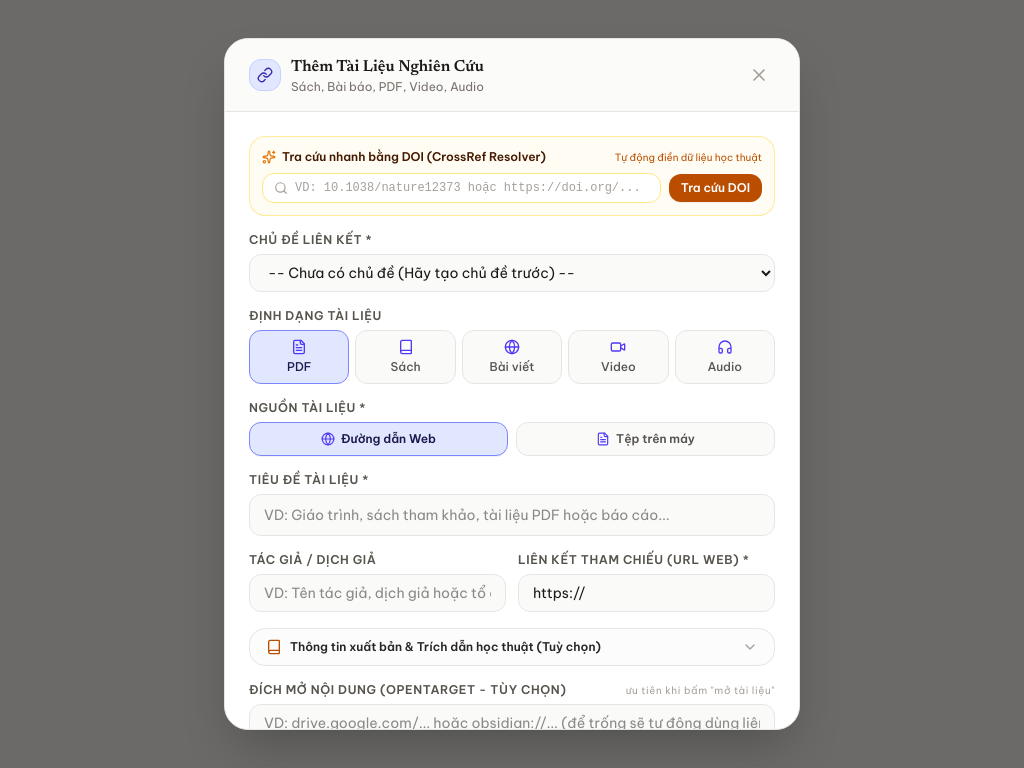
Test: Post-Phase 6c: ResourceFormModal - Path Normalization, Validation & Boundary Warning UI › displays warning callout when filePath is outside configured canonical library root
// Switch to local mode
Click the button "Tệp trên máy".
click(646, 439)  # box [516,422,775,456]
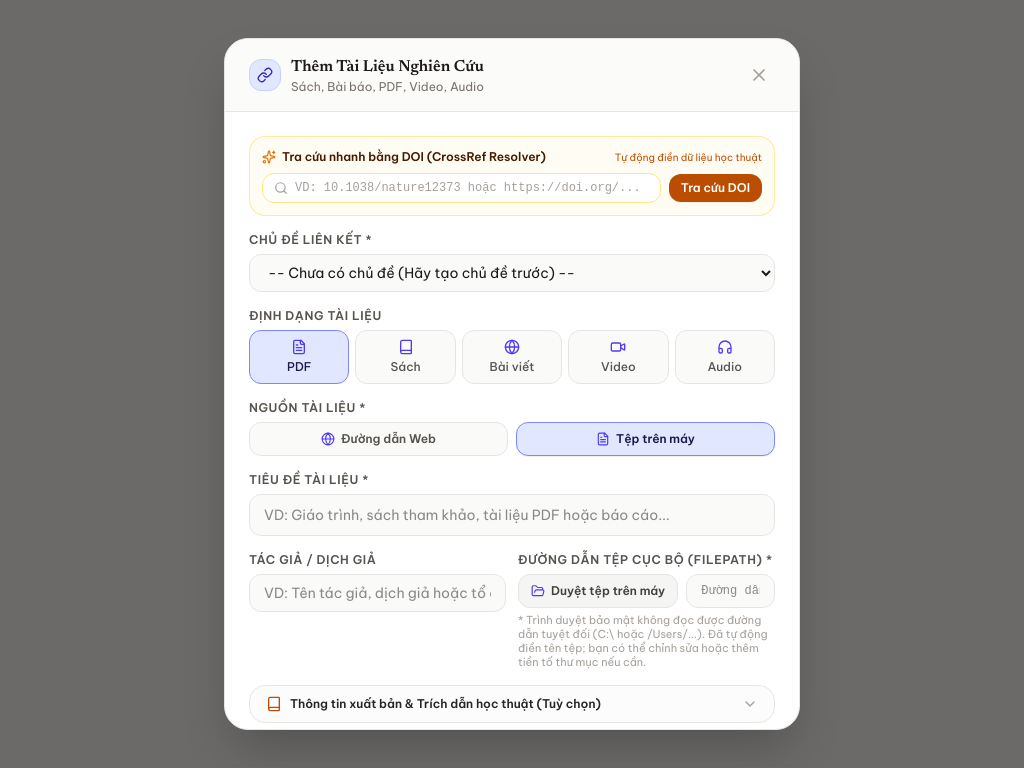
// Fill path outside root
Type "/Users/researcher/Downloads/study.pdf" into the field with placeholder "Đường dẫn tệp (/Users/.../KinhDien.pdf hoặc D:\\...)...".
click(731, 591); type("/Users/researcher/Downloads/study.pdf")  # box [686,574,775,608]
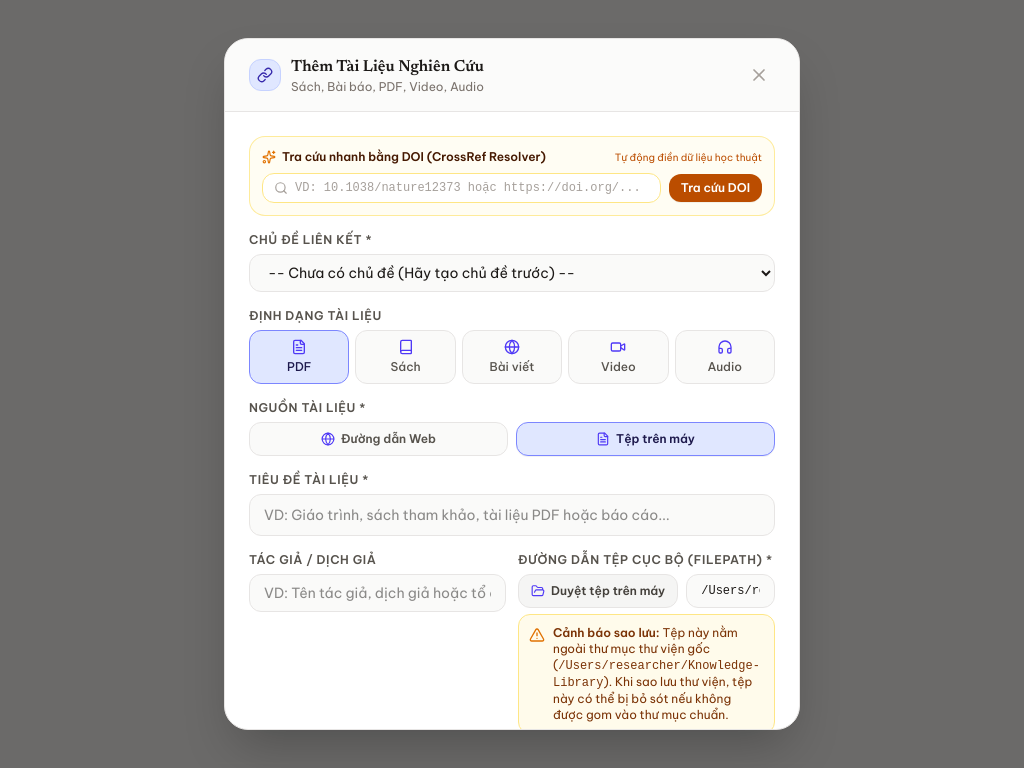
Expected: the text "nằm ngoài thư mục thư viện gốc" is shown, [553,625,738,672]
